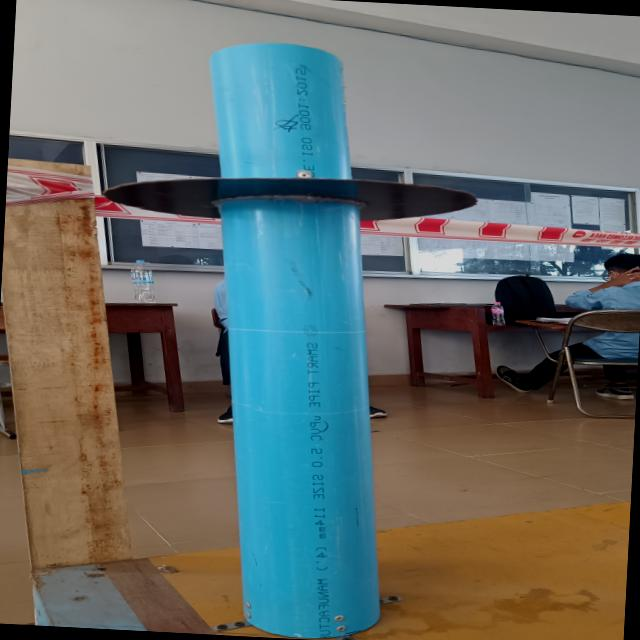pole: (68, 26, 505, 360)
